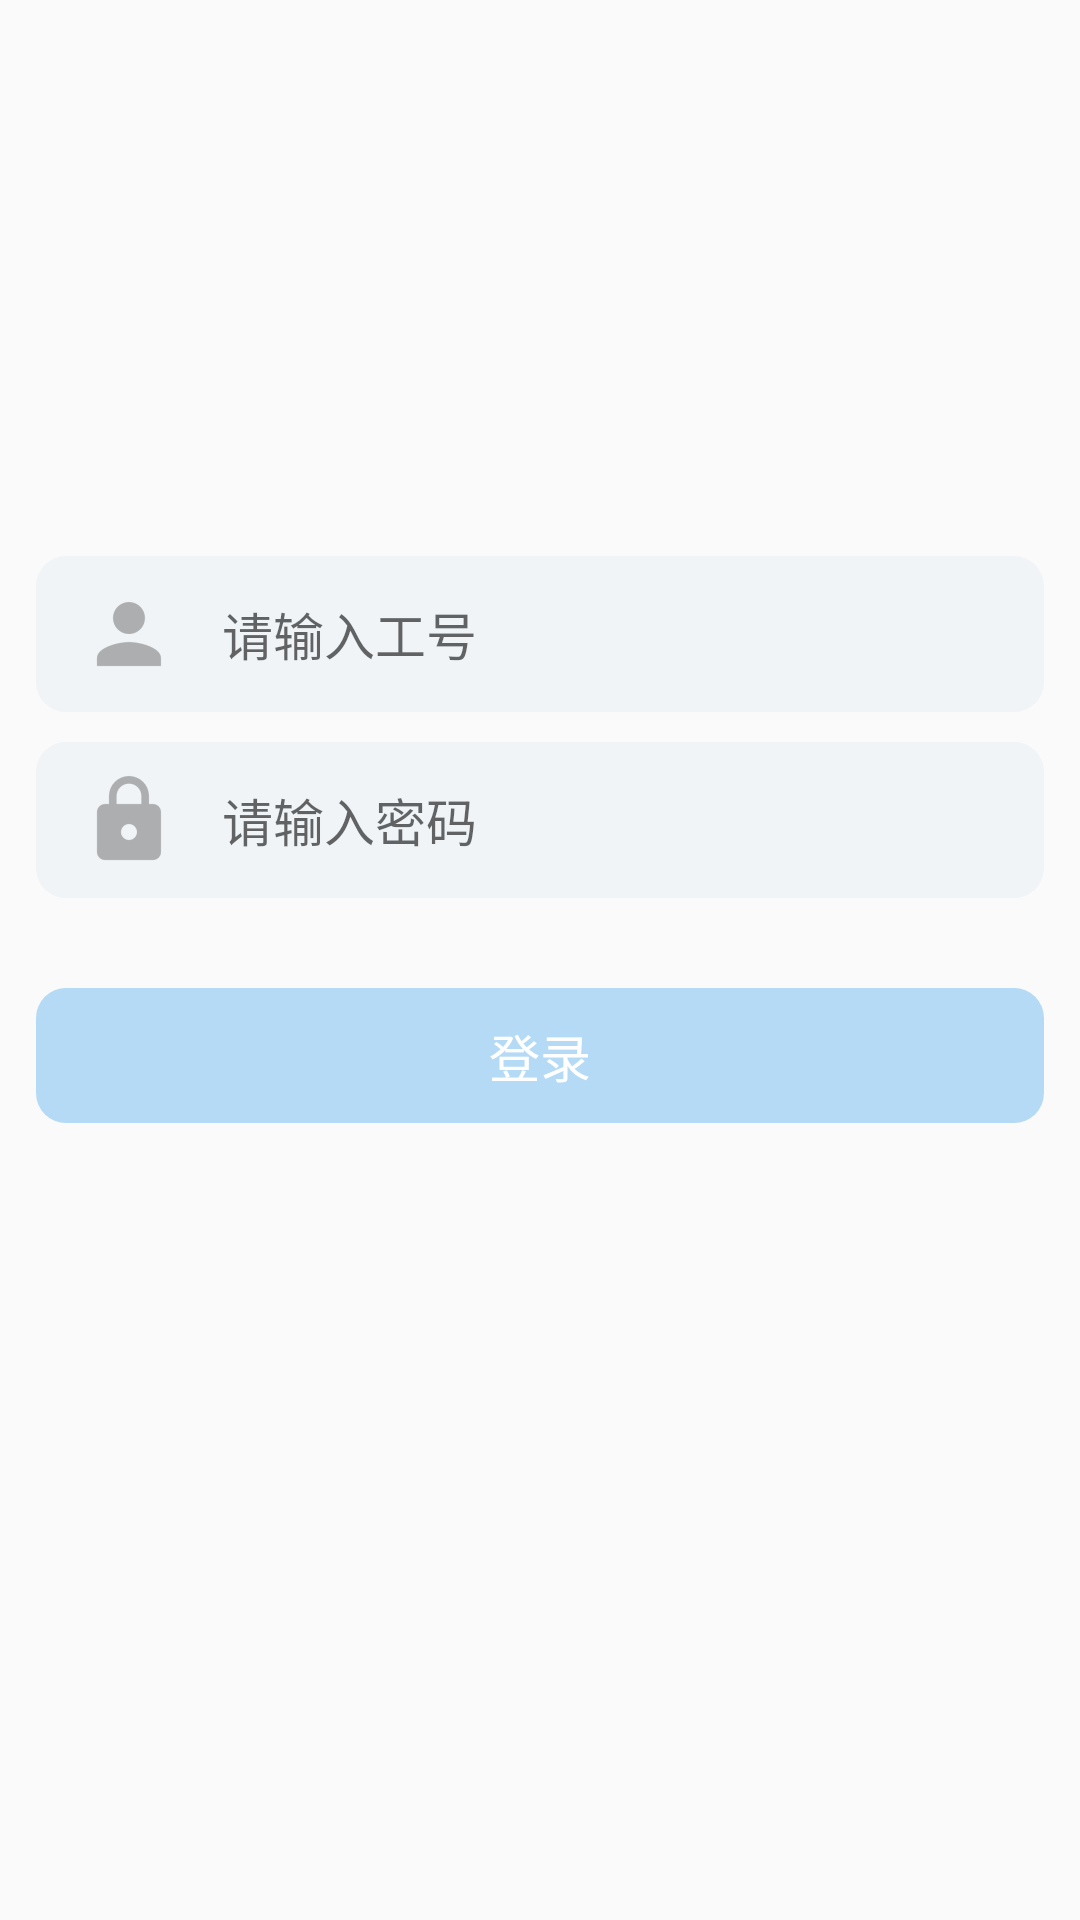

Named icons in this screenshot (1080 × 1920) and their centers, (x=x, y=y):
password: (x=129, y=818)
user: (x=129, y=634)
